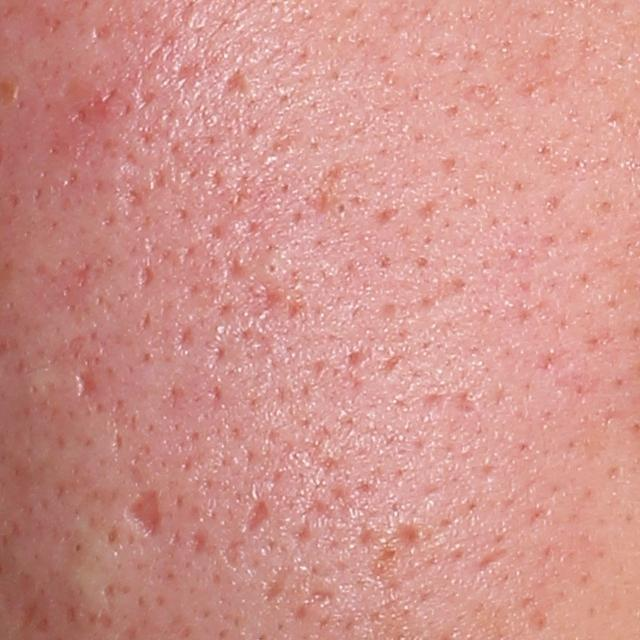atrophic_scar: (126, 486, 164, 539), (294, 586, 339, 620), (387, 519, 426, 554), (219, 66, 256, 101), (241, 497, 272, 538), (456, 389, 479, 421), (75, 367, 97, 399), (133, 263, 154, 292), (173, 325, 192, 356)
comedo: (329, 198, 352, 222), (260, 257, 282, 278)
